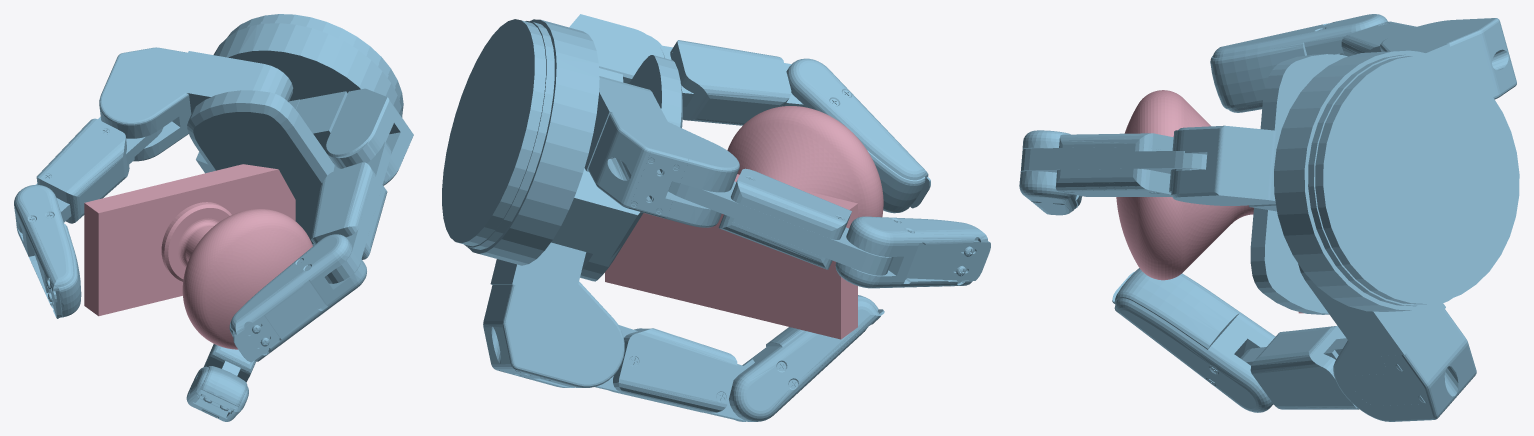
3 renders of one model, left to right at view 1: azimuth 30°, elevation 25°; view 2: azimuth 150°, elevation 25°; view 3: azimuth 270°, elevation 25°, orthographic. The views are drawn at different scales.
Visible parts, largest first — view 1: world, door_knob.stl; view 2: world, door_knob.stl; view 3: world, door_knob.stl.
Boxes of the visible parts, box(x1,y1,x2,y2) form: world: box(14, 14, 413, 421); door_knob.stl: box(84, 164, 312, 349); world: box(442, 14, 990, 421); door_knob.stl: box(605, 106, 883, 339); world: box(1019, 14, 1519, 421); door_knob.stl: box(1116, 90, 1303, 313).
Size of the model in its own units: 0.2018 by 0.1621 by 0.171.
